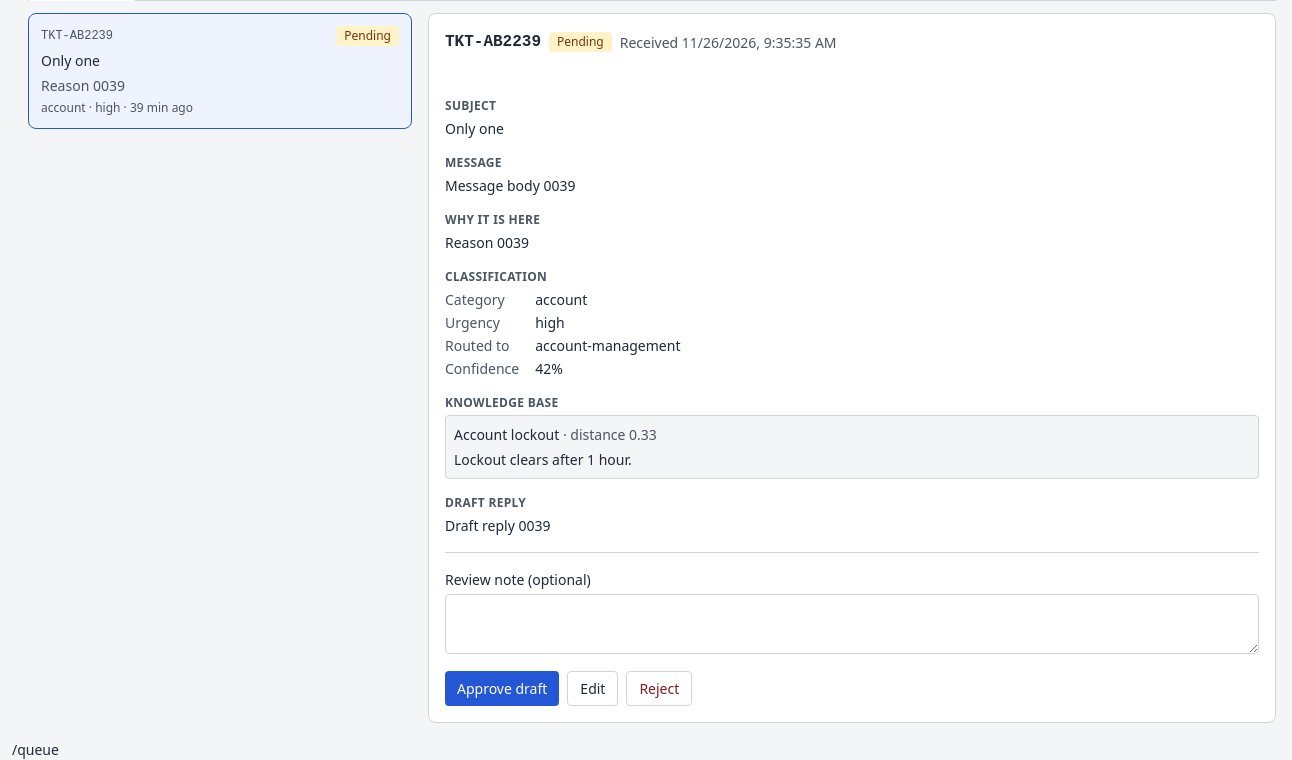
reviewing › reviewing the last pending ticket shows the empty state
(page scrolled)
Click the button "Reject". click: (659, 688)
box: left=626, top=671, right=692, bottom=706
(page scrolled)
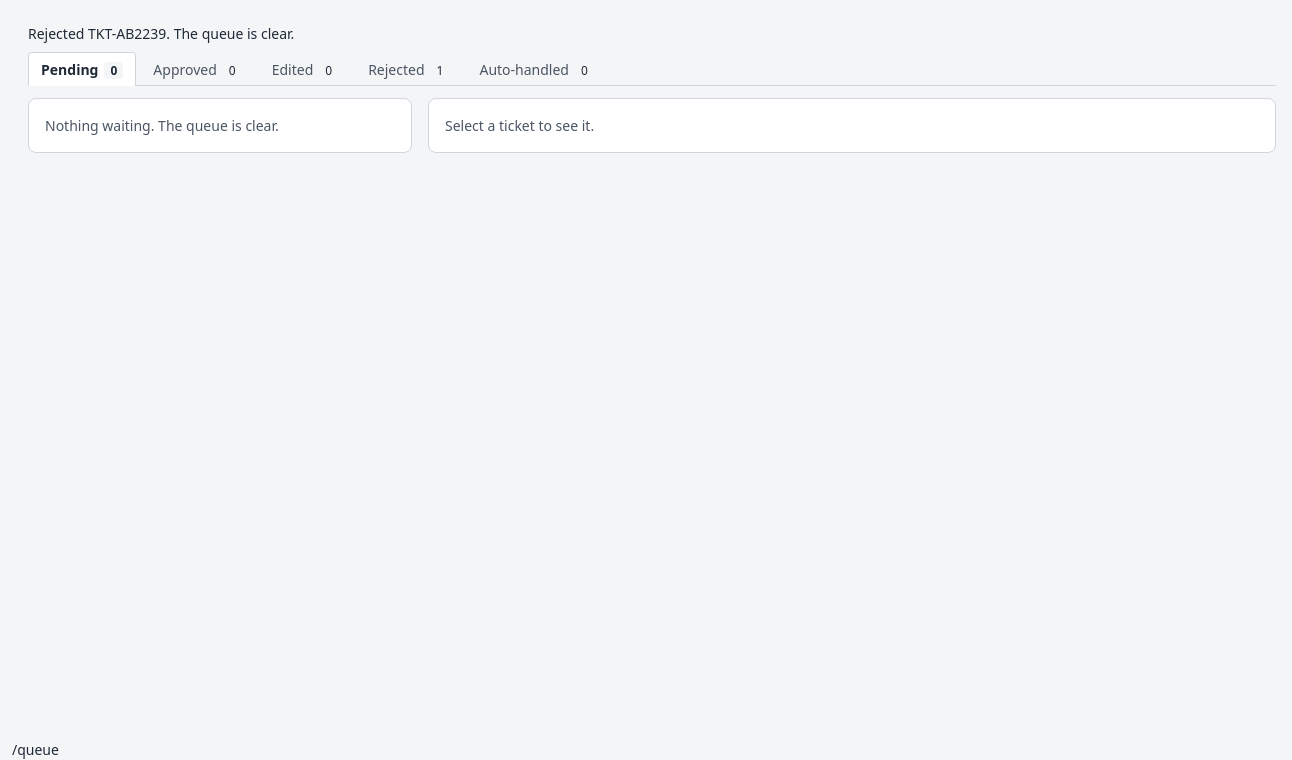
Result: the text "Nothing waiting. The queue is clear." is shown at left=28, top=98, right=412, bottom=153
Result: the text "Select a ticket to see it." is shown at left=445, top=116, right=594, bottom=135
